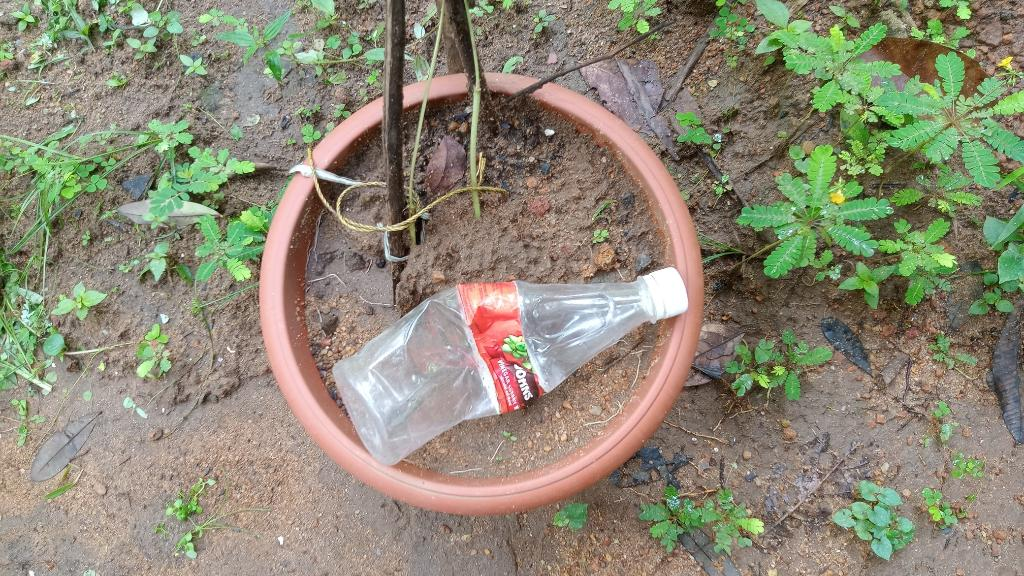garbage: (415, 154, 599, 524)
